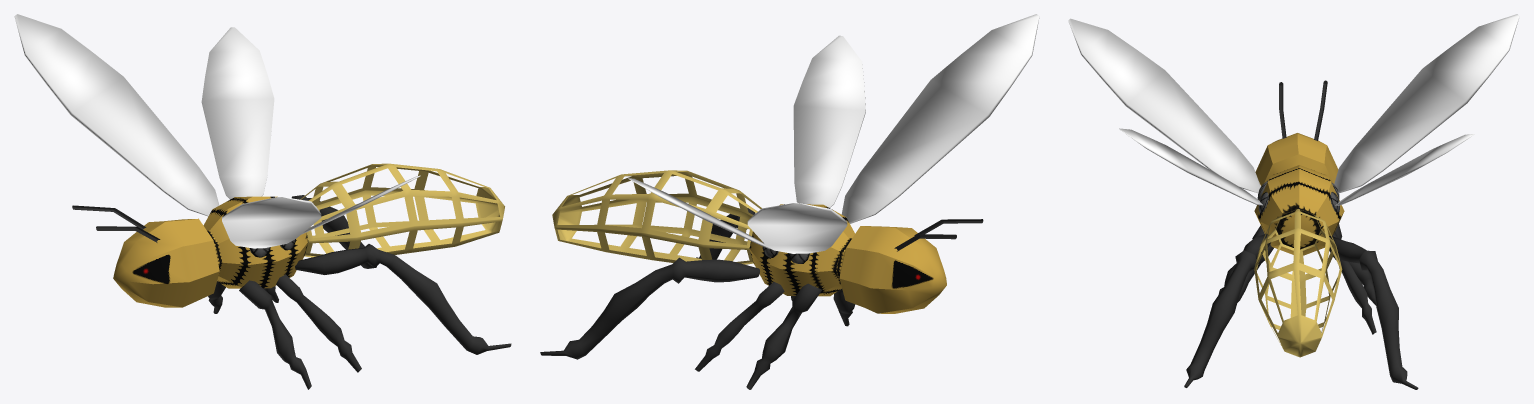
Rendered from BEENew.fbx.
3 views of the same model, side by side, from view 1: azimuth 30°, elevation 25°; view 2: azimuth 150°, elevation 25°; view 3: azimuth 270°, elevation 25° (orthographic). The views are drawn at different scales.
Visible parts, largest first — view 1: Cube.002, Body, Body2, Cube.003, Leg3, Cube, Leg 1, leg2, Leg3.001, Cube.001; view 2: Cube, Body, Body2, Cube.001, Leg3.001, Cube.002, Leg 1.001, leg2.001, Cube.003, Leg3; view 3: Cube.002, Cube, Body, Body2, Leg3.001, Leg3, Cube.001, Cube.003, leg2.001, Leg 1.001.
Part boxes in pixels (x1=…): Cube.002: x1=14, y1=14, x2=219, y2=216; Body: x1=113, y1=196, x2=308, y2=307; Body2: x1=300, y1=163, x2=504, y2=257; Cube.003: x1=201, y1=27, x2=274, y2=199; Leg3: x1=295, y1=244, x2=511, y2=354; Cube: x1=222, y1=197, x2=321, y2=248; Leg 1: x1=239, y1=280, x2=311, y2=389; leg2: x1=276, y1=274, x2=361, y2=372; Leg3.001: x1=291, y1=195, x2=376, y2=268; Cube.001: x1=301, y1=175, x2=420, y2=234; Cube: x1=841, y1=14, x2=1039, y2=223; Body: x1=749, y1=204, x2=946, y2=313; Body2: x1=552, y1=170, x2=761, y2=264; Cube.001: x1=793, y1=35, x2=865, y2=207; Leg3.001: x1=540, y1=257, x2=759, y2=359; Cube.002: x1=747, y1=203, x2=847, y2=253; Leg 1.001: x1=746, y1=283, x2=821, y2=389; leg2.001: x1=695, y1=282, x2=784, y2=371; Cube.003: x1=628, y1=178, x2=771, y2=249; Leg3: x1=696, y1=208, x2=755, y2=259; Cube.002: x1=1334, y1=14, x2=1519, y2=193; Cube: x1=1068, y1=18, x2=1260, y2=193; Body: x1=1254, y1=133, x2=1344, y2=255; Body2: x1=1254, y1=209, x2=1342, y2=357; Leg3.001: x1=1329, y1=236, x2=1418, y2=389; Leg3: x1=1184, y1=234, x2=1270, y2=387; Cube.001: x1=1119, y1=128, x2=1262, y2=205; Cube.003: x1=1335, y1=134, x2=1474, y2=205; leg2.001: x1=1329, y1=232, x2=1376, y2=334; Leg 1.001: x1=1335, y1=224, x2=1376, y2=305.
Size of the model in its own units: 65.69 by 41.76 by 69.01.
Materials: 5 (2 with a texture image).
